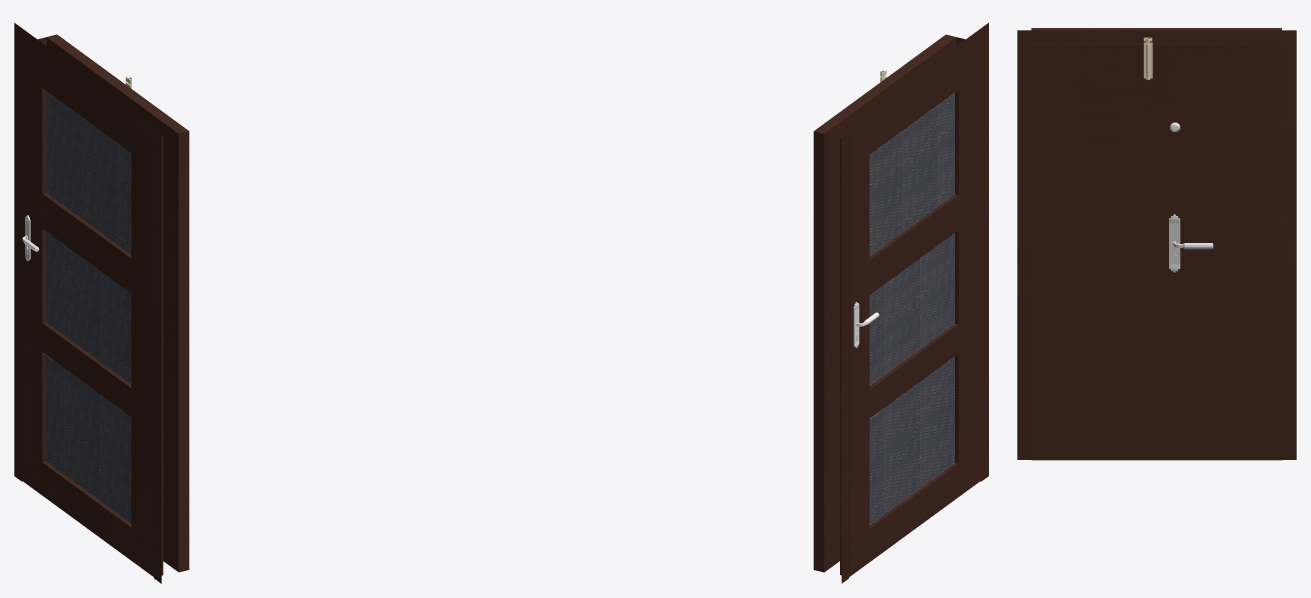
File: single_door_spectra_casa.fbx
3 renders of one model, left to right at view 1: azimuth 30°, elevation 25°; view 2: azimuth 150°, elevation 25°; view 3: azimuth 270°, elevation 25°, orthographic. The views are drawn at different scales.
Visible parts, largest first — view 1: door_interior, v1spectra_casa_Object001, v1spectra_casa_polySurface5, door_interior_panel, v1spectra_casa_polySurface6; view 2: door_interior, v1spectra_casa_Object001, v1spectra_casa_polySurface6, door_interior_panel, v1spectra_casa_polySurface5; view 3: v1spectra_casa_polySurface5, v1spectra_casa_polySurface6, door_interior_panel, door_interior, v1spectra_casa_pCube11.
Part boxes in pixels (<box>): door_interior: <box>22,43,163,576</box>; v1spectra_casa_Object001: <box>46,91,131,523</box>; v1spectra_casa_polySurface5: <box>112,82,189,572</box>; door_interior_panel: <box>14,23,161,583</box>; v1spectra_casa_polySurface6: <box>46,34,122,93</box>; door_interior: <box>840,43,981,576</box>; v1spectra_casa_Object001: <box>869,92,954,524</box>; v1spectra_casa_polySurface6: <box>813,83,889,572</box>; door_interior_panel: <box>841,22,988,583</box>; v1spectra_casa_polySurface5: <box>879,34,956,94</box>; v1spectra_casa_polySurface5: <box>1031,44,1158,460</box>; v1spectra_casa_polySurface6: <box>1158,44,1282,460</box>; door_interior_panel: <box>1017,30,1296,459</box>; door_interior: <box>1031,28,1281,30</box>; v1spectra_casa_pCube11: <box>1169,214,1180,272</box>.
Size of the model in its own units: 230 by 245 by 144.
